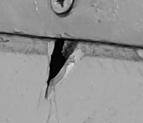crack: (0, 1, 143, 123)
